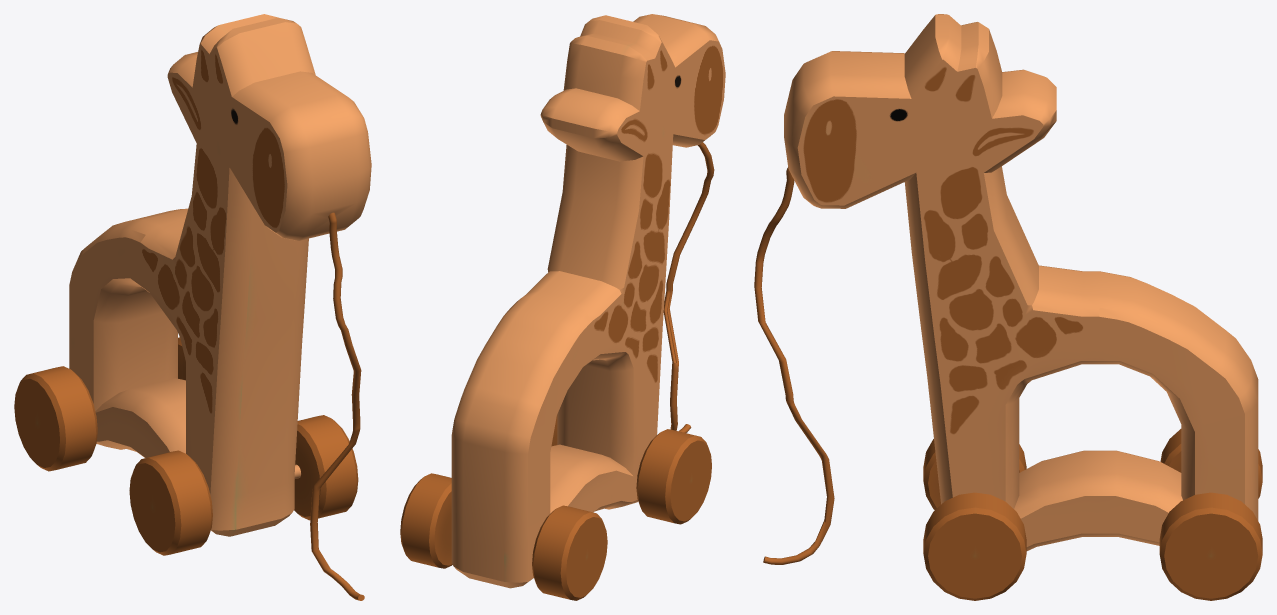
The model's file is clue_toy.obj.
3 views of the same model, side by side, from view 1: azimuth 30°, elevation 25°; view 2: azimuth 150°, elevation 25°; view 3: azimuth 270°, elevation 25° (orthographic). The views are drawn at different scales.
Parts seen in each view (by area): view 1: pCylinder8; view 2: pCylinder8; view 3: pCylinder8.
Boxes of the visible parts, x1=… form: pCylinder8: x1=14, y1=14, x2=371, y2=600; pCylinder8: x1=400, y1=14, x2=725, y2=600; pCylinder8: x1=754, y1=14, x2=1262, y2=600.
Size of the model in its own units: 4.2 by 11.36 by 9.87.
